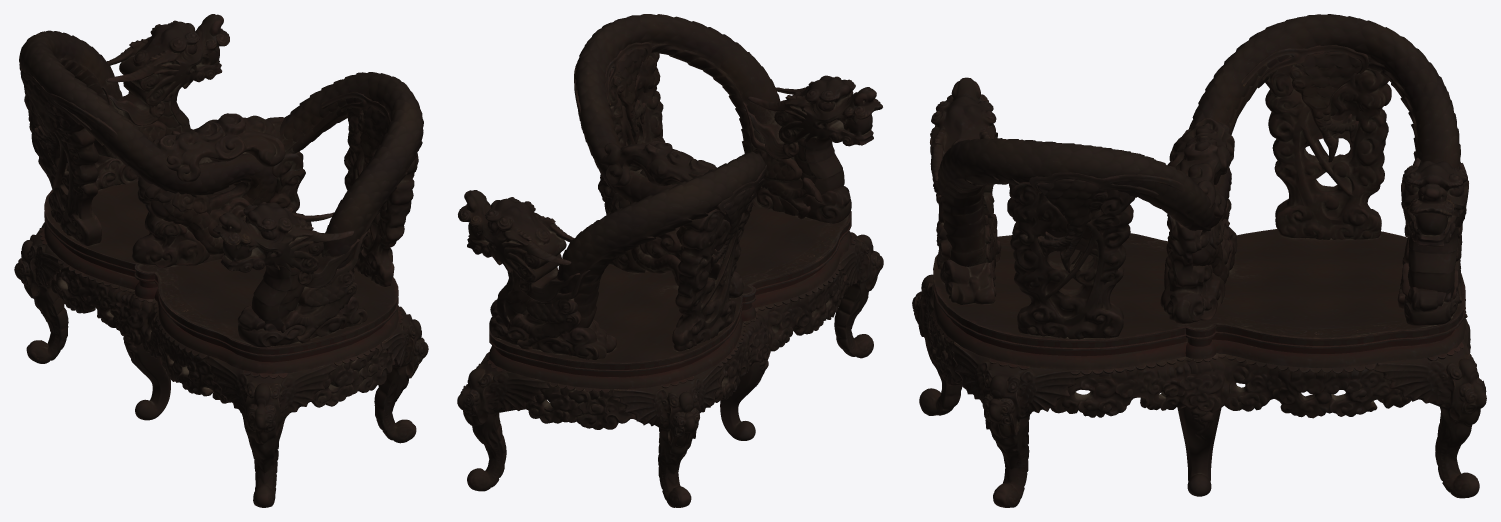
The model's file is SM_Chair02C.fbx.
The picture shows the model from 3 angles, left to right: view 1: azimuth 30°, elevation 25°; view 2: azimuth 150°, elevation 25°; view 3: azimuth 270°, elevation 25°; orthographic projection. The views are drawn at different scales.
Parts seen in each view (by area): view 1: SM_Chair02C; view 2: SM_Chair02C; view 3: SM_Chair02C.
Part boxes in pixels (x1,y1,x2,y2): SM_Chair02C: (14, 14, 428, 507); SM_Chair02C: (457, 14, 883, 507); SM_Chair02C: (912, 14, 1486, 507).
Size of the model in its own units: 84.11 by 141 by 102.
Materials: 1 (1 with a texture image).
